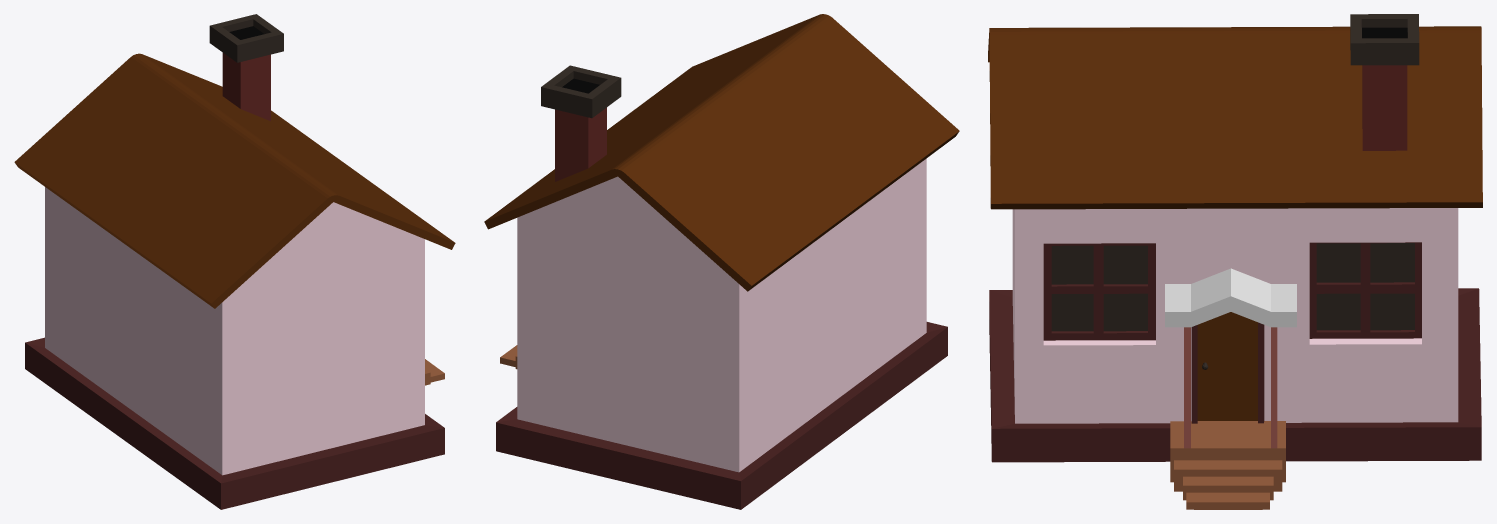
File: house2.fbx
3 renders of one model, left to right at view 1: azimuth 30°, elevation 25°; view 2: azimuth 150°, elevation 25°; view 3: azimuth 270°, elevation 25°, orthographic. The views are drawn at different scales.
Visible parts, largest first — view 1: Cube.003; view 2: Cube.003; view 3: Cube.003.
Part boxes in pixels (x1=…): Cube.003: x1=14, y1=14, x2=455, y2=509; Cube.003: x1=484, y1=14, x2=959, y2=509; Cube.003: x1=988, y1=14, x2=1482, y2=509.
Size of the model in its own units: 497 by 485 by 534.
